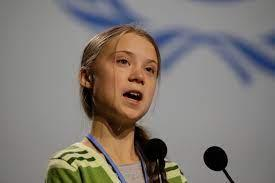Persons: (80, 21, 170, 132)
